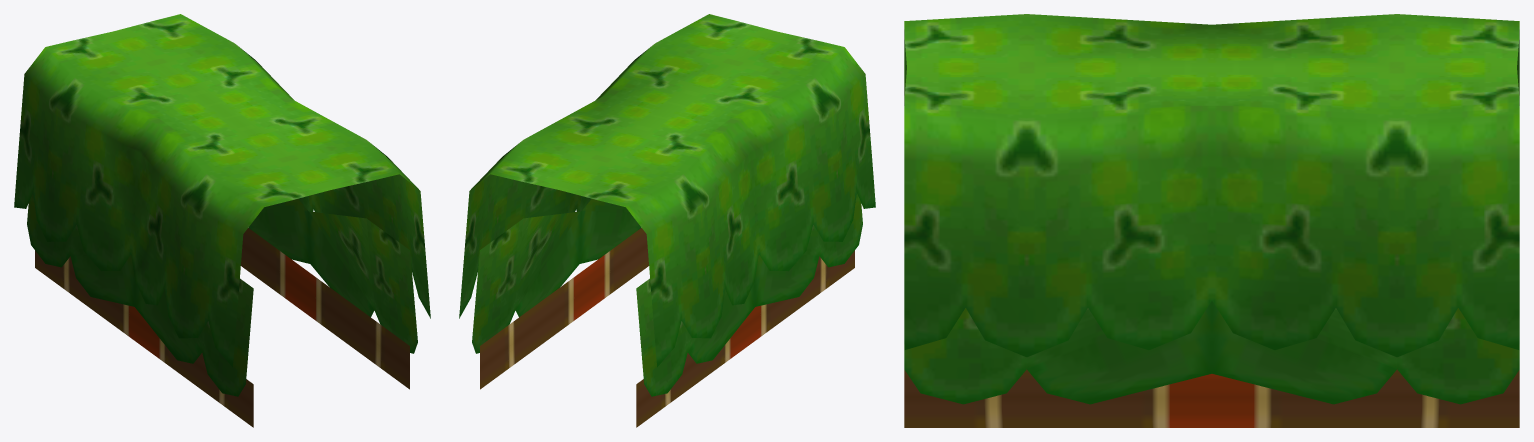
File: grass_Wall_Till_2.fbx
3 renders of one model, left to right at view 1: azimuth 30°, elevation 25°; view 2: azimuth 150°, elevation 25°; view 3: azimuth 270°, elevation 25°, orthographic. The views are drawn at different scales.
Visible parts, largest first — view 1: lobj_ggs_castle00_00_01_0.001; view 2: lobj_ggs_castle00_00_01_0.001; view 3: lobj_ggs_castle00_00_01_0.001.
Part boxes in pixels (x1,y1,x2,y2): lobj_ggs_castle00_00_01_0.001: [14, 14, 430, 427]; lobj_ggs_castle00_00_01_0.001: [459, 14, 875, 427]; lobj_ggs_castle00_00_01_0.001: [904, 14, 1519, 427].
Size of the model in its own units: 0.0656 by 0.0625 by 0.1137.
